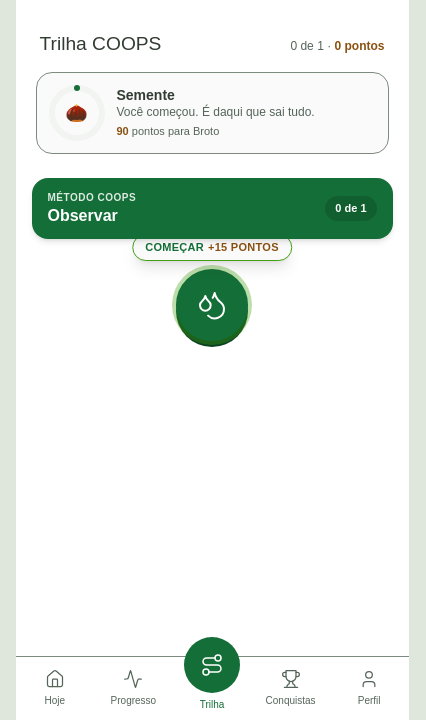
Test: Trilha — clicar na colheita atual › abre a pergunta ao tocar na colheita de hoje
Click the button named "Para onde o dinheiro foi".
click(212, 305)  # box top-left (176, 269), bottom-right (248, 341)
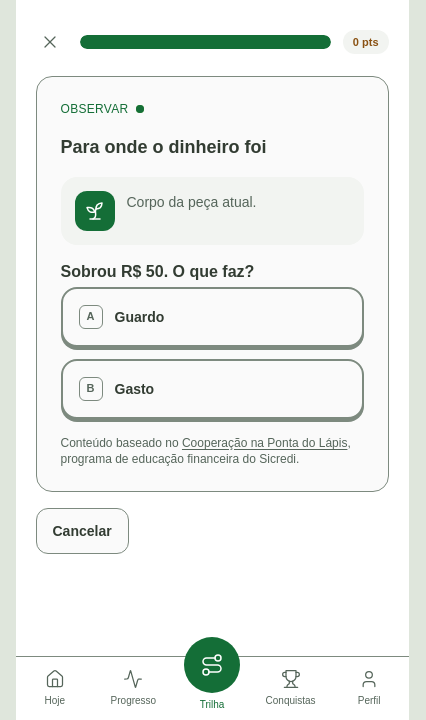
Now the text "Sobrou R$ 50. O que faz?" is shown, box top-left (60, 261), bottom-right (254, 283)
Now the button "A Guardo" is shown, box top-left (60, 287), bottom-right (364, 347)
